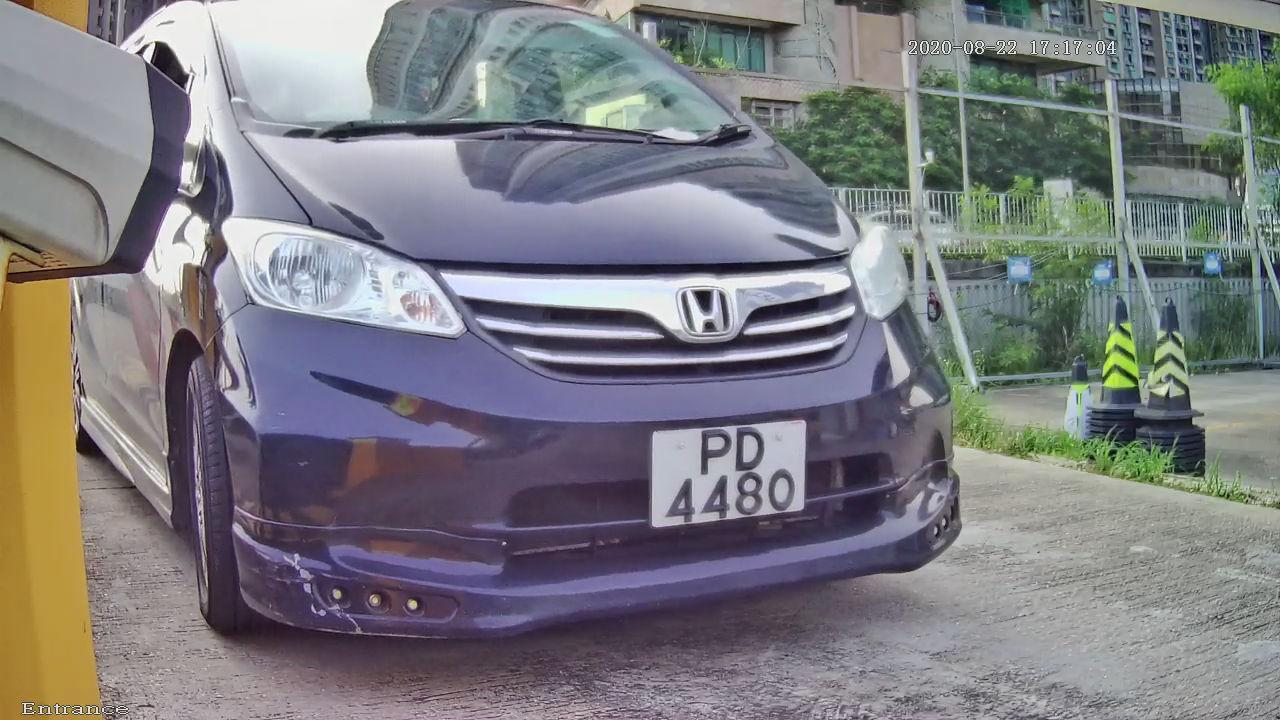Car: (41, 1, 1018, 692)
License Plate: (640, 402, 823, 541)
